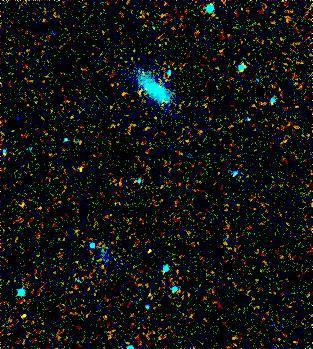star: (133, 235, 163, 265)
